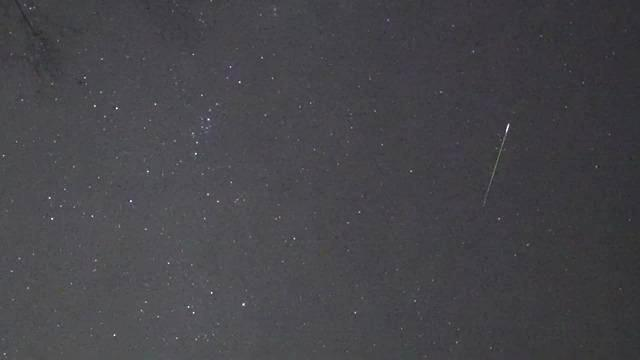meteorite: (467, 115, 521, 212)
